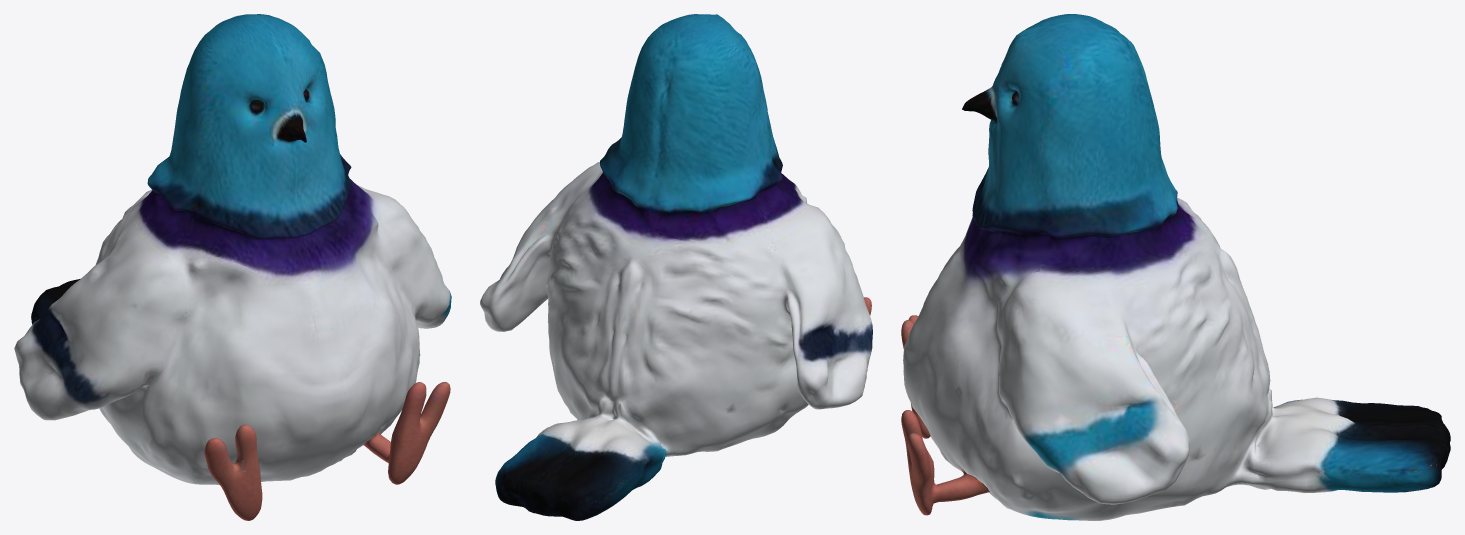
Rendered from percy.glb.
3 views of the same model, side by side, from view 1: azimuth 30°, elevation 25°; view 2: azimuth 150°, elevation 25°; view 3: azimuth 270°, elevation 25° (orthographic). The views are drawn at different scales.
Parts seen in each view (by area): view 1: percy; view 2: percy; view 3: percy.
Part boxes in pixels (x1,y1,x2,y2): percy: (14,14,451,520); percy: (480,14,872,520); percy: (901,14,1450,520).
Size of the model in its own units: 1.16 by 1.2 by 1.31.
1 material, 1 textured.
